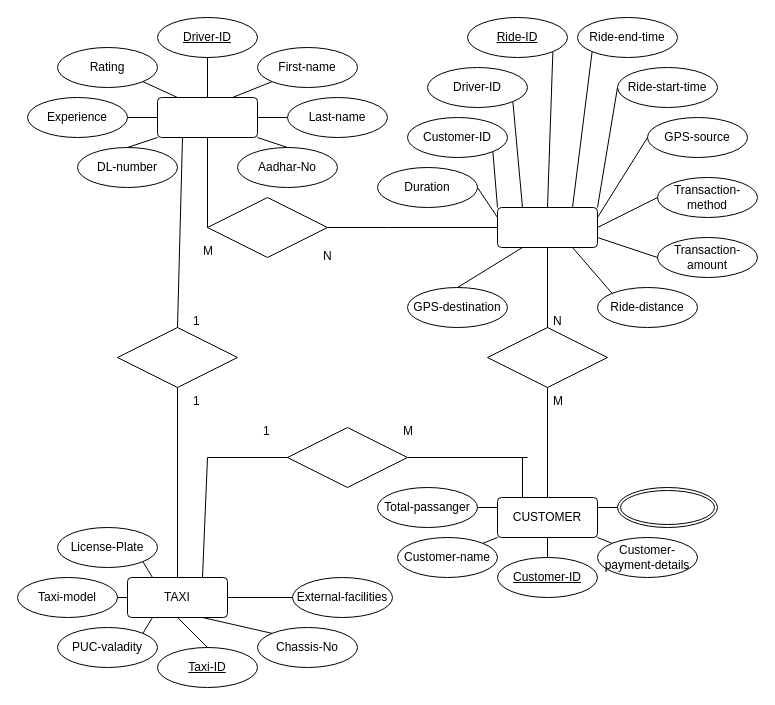
Image size: 775x705. Some labels were removed from this diagram. The box of each missing label's shape, as (x1, y1, x2, y2) in pixels:
BOOKS: (486, 326, 608, 388)
Customer-Phone-No: (616, 486, 718, 528)
DRIVER: (156, 96, 258, 138)
DRIVES: (116, 326, 238, 388)
HOST: (206, 196, 328, 258)
TAXI_RIDE: (496, 206, 598, 248)
Travels: (286, 426, 408, 488)
